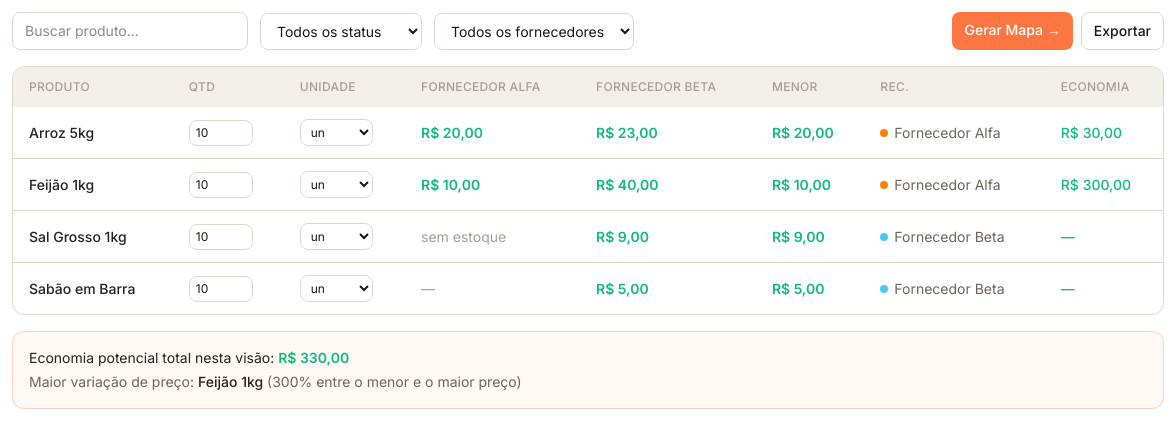
TabelaComparativa — filtros › filtro de fornecedor mostra só os itens que têm oferta (válida ou não) daquele fornecedor
Select "Fornecedor Alfa" in the 2nd dropdown showing "Todos os fornecedores" at (534, 31), box left=434, top=12, right=634, bottom=50
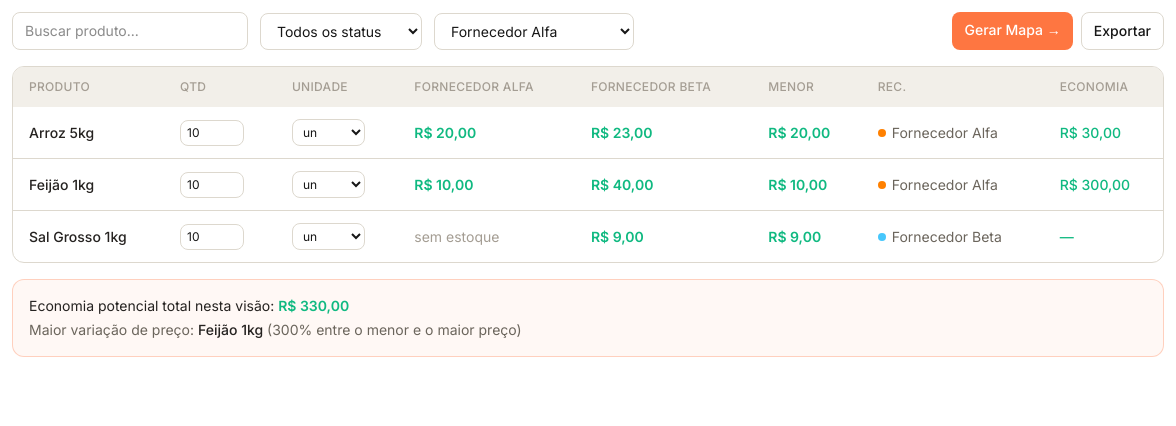
Check: the text "Arroz 5kg" is shown, box left=13, top=107, right=164, bottom=158
Check: the text "Sabão em Barra" is gone
